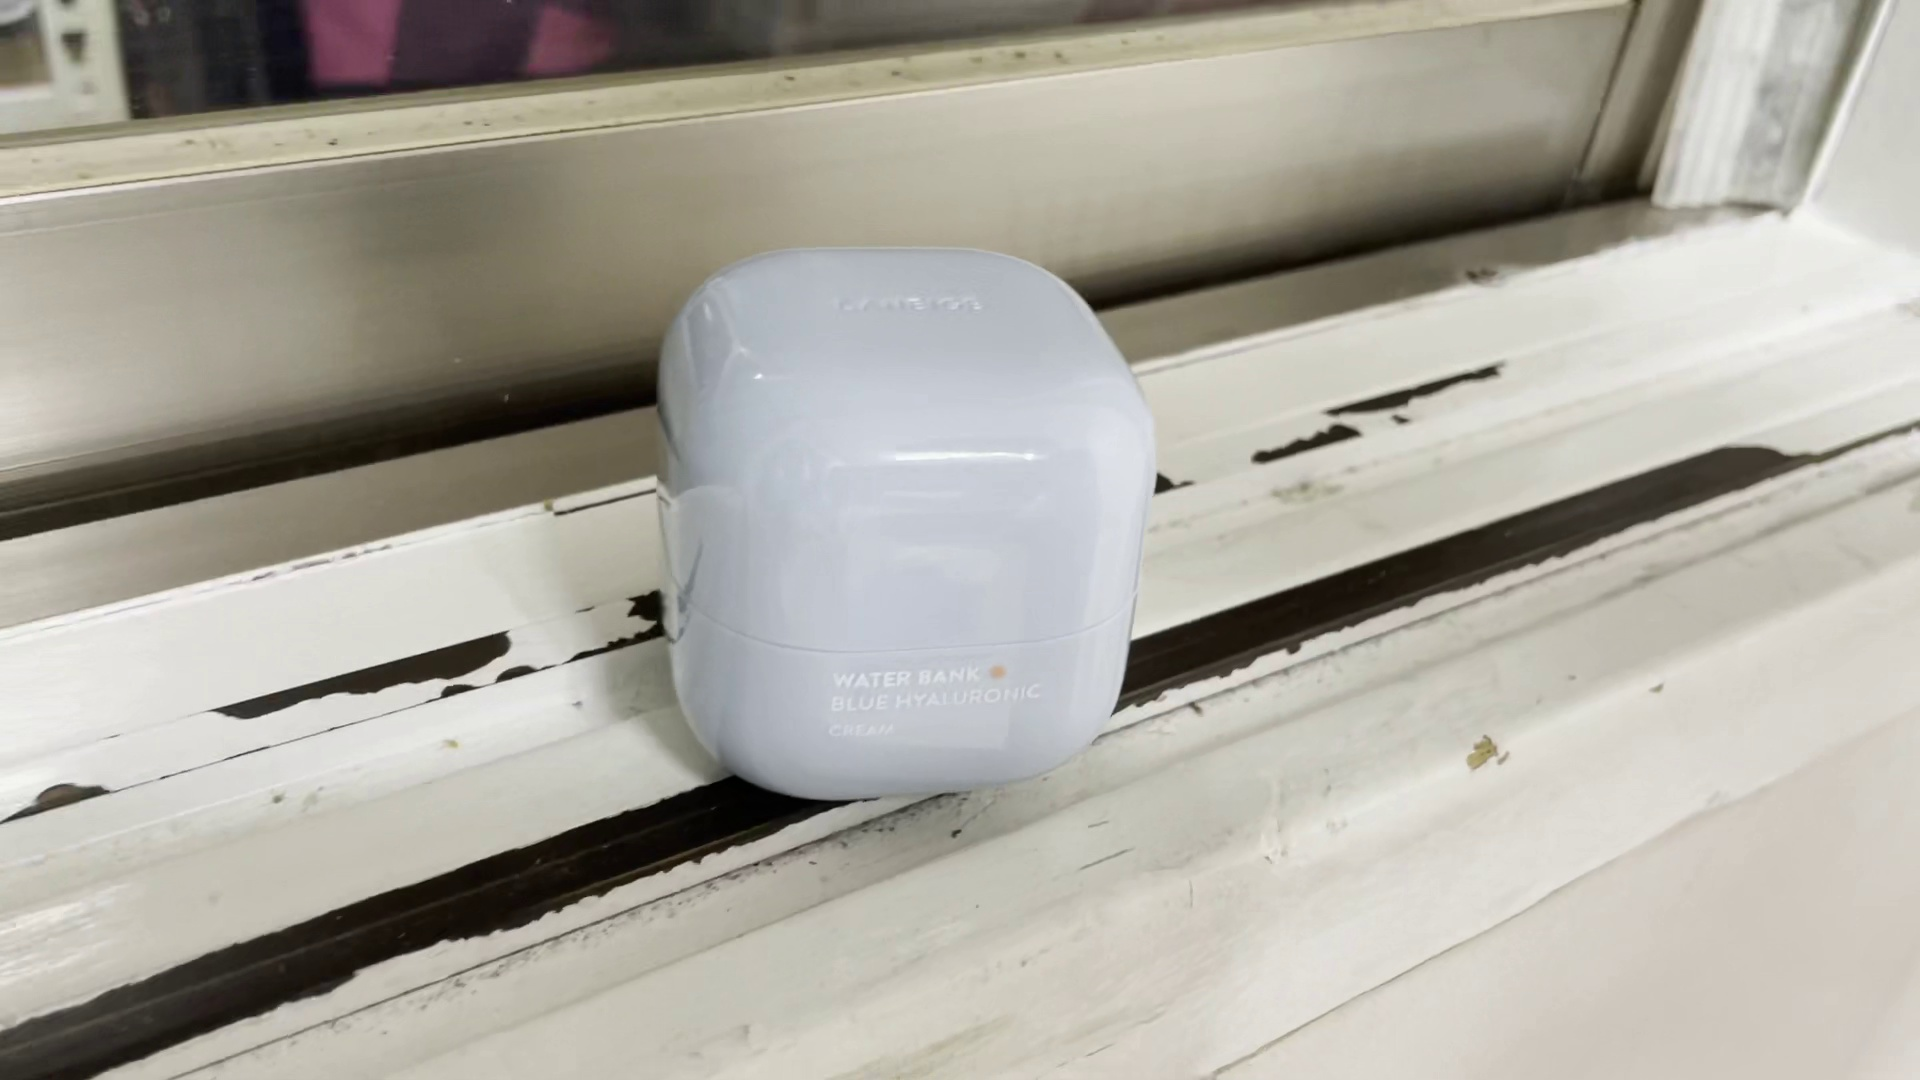cream: (654, 245, 1153, 794)
